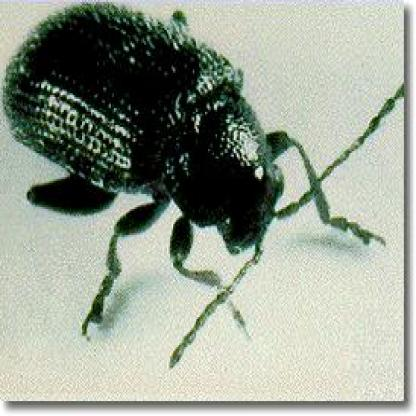beetle: (1, 0, 408, 363)
